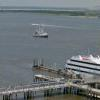Boat: (28, 22, 55, 42)
